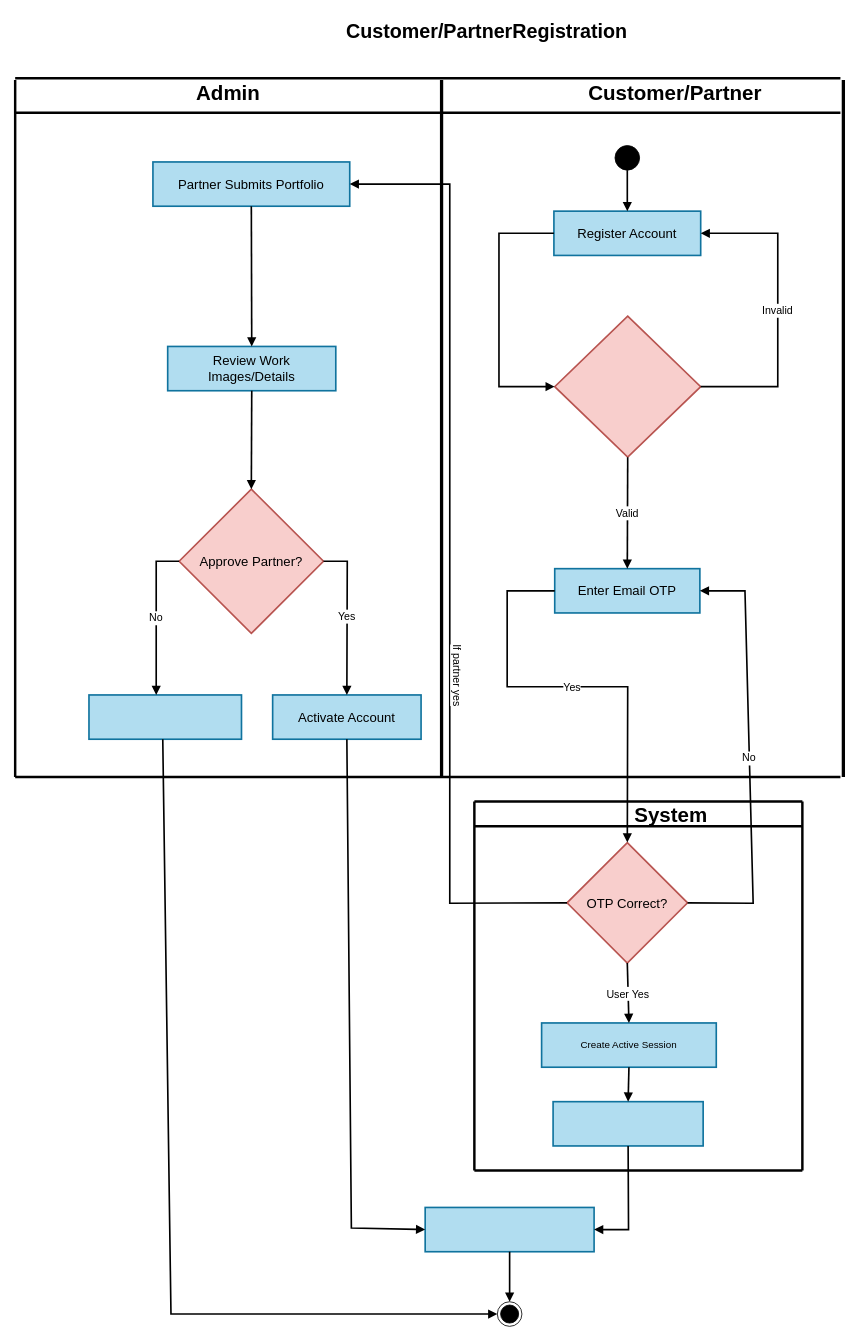
The diagram is 860 pixels wide and 1341 high, and some of its shapes have lost their labels. The shapes that lost their labels are listed below. From the top down, each one's centre as x and y in pixels, then its label:
the point at 627,386: Check Password Rules
the point at 165,717: Keep Deactivated
the point at 628,1123: Redirect to Login
the point at 509,1229: Visible in Search Bar
